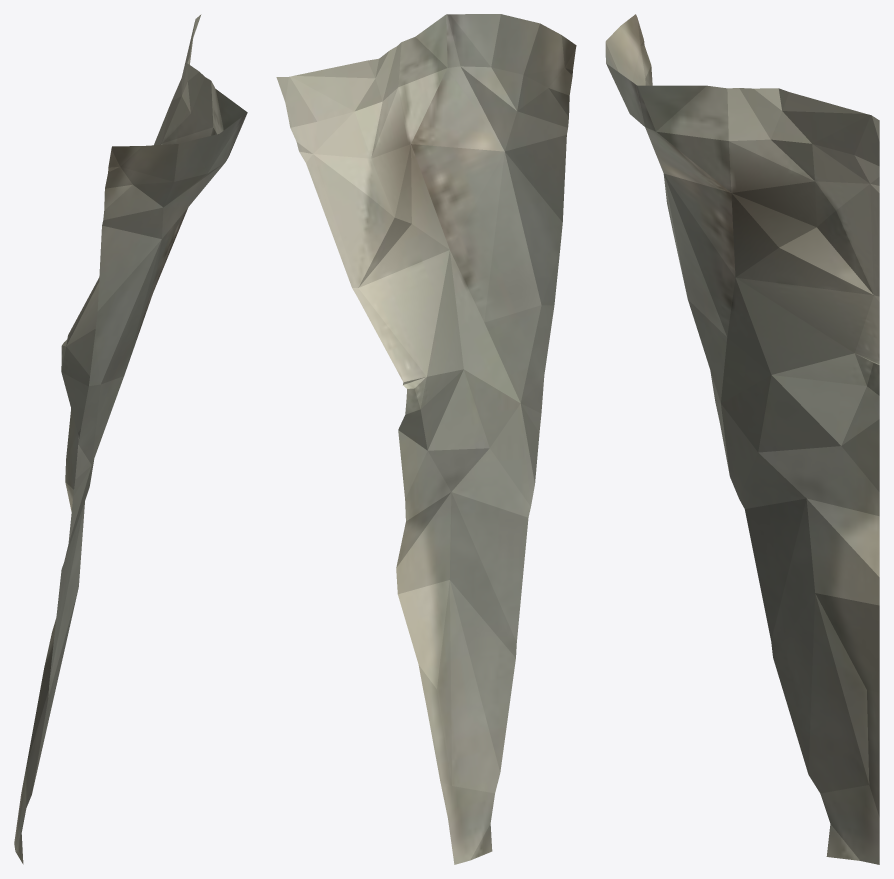
3 renders of one model, left to right at view 1: azimuth 30°, elevation 25°; view 2: azimuth 150°, elevation 25°; view 3: azimuth 270°, elevation 25°, orthographic. The views are drawn at different scales.
Size of the model in its own units: 0.4533 by 1.67 by 0.4934.
Materials: 1 (1 with a texture image).
